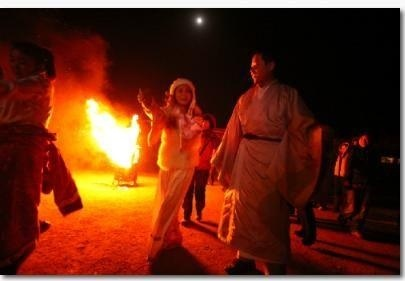fire: (80, 95, 144, 168), (156, 129, 169, 168)
